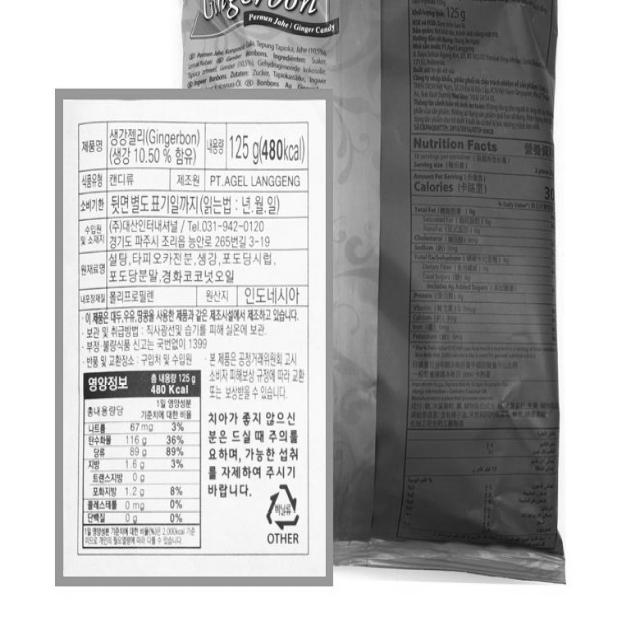Nutrition Label: (76, 371, 208, 560)
